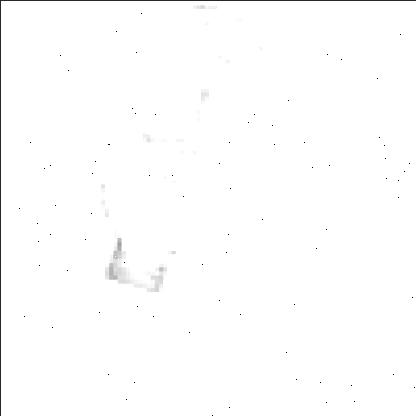Plastic Bottle: (94, 0, 274, 298)
